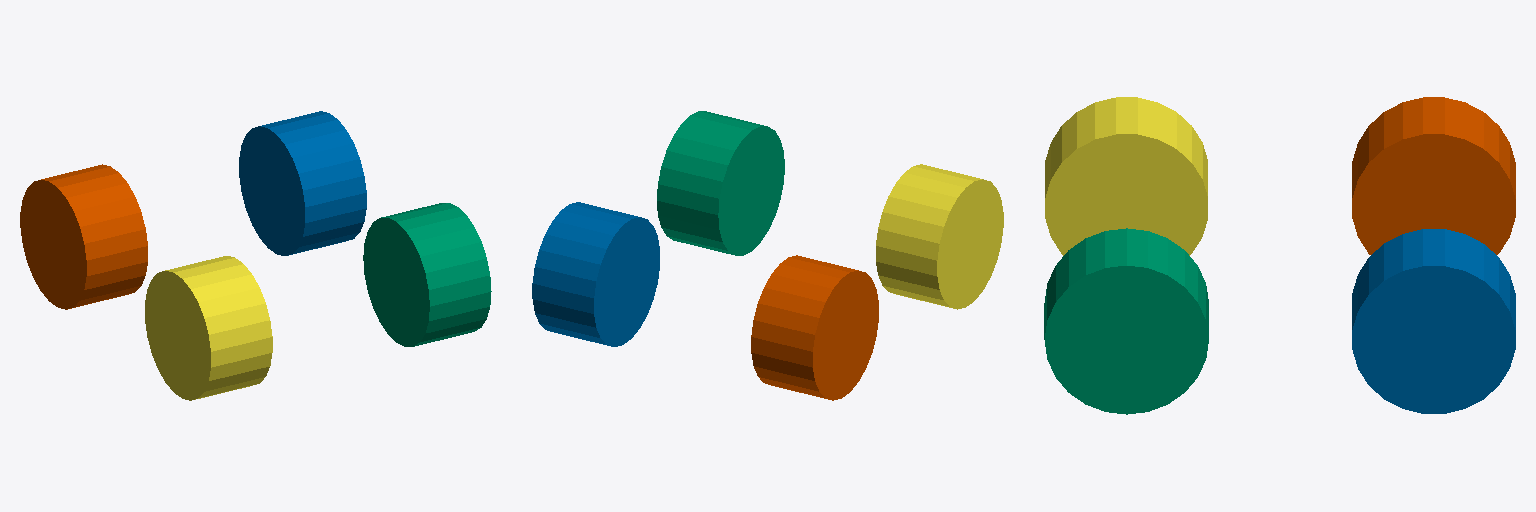
The robot description file, URDF, robot "ante":
<?xml version="1.0" ?>
<!-- =================================================================================== -->
<!-- |    This document was autogenerated by xacro from robots/ante.urdf.xacro         | -->
<!-- |    EDITING THIS FILE BY HAND IS NOT RECOMMENDED                                 | -->
<!-- =================================================================================== -->
<robot name="ante">
  <!-- create base_link -->
  <link name="base_link"/>
  <!-- fix chassis to base_link, given by parent -->
  <joint name="drivebase_base_link" type="fixed">
    <parent link="base_link"/>
    <child link="chassis_link"/>
    <origin rpy="0 0 0" xyz="0 0 0"/>
  </joint>
  <!-- wheel joints -->
  <joint name="front_left_axle" type="continuous">
    <origin rpy="-1.5707964 0. 1.5707964" xyz="0.111 0.042 -0.012"/>
    <parent link="chassis_link"/>
    <child link="front_left_wheel"/>
    <axis xyz="0. 0. 1."/>
  </joint>
  <joint name="front_right_axle" type="continuous">
    <origin rpy="-1.5707964 0. -1.5707964" xyz="-0.111 0.042 -0.012"/>
    <parent link="chassis_link"/>
    <child link="front_right_wheel"/>
    <axis xyz="0. 0. 1."/>
  </joint>
  <joint name="rear_left_axle" type="continuous">
    <origin rpy="-1.5707964 0. 1.5707964" xyz="0.111 0.182 -0.012"/>
    <parent link="chassis_link"/>
    <child link="rear_left_wheel"/>
    <axis xyz="0. 0. 1."/>
  </joint>
  <joint name="rear_right_axle" type="continuous">
    <origin rpy="-1.5707964 0. -1.5707964" xyz="-0.111 0.182 -0.012"/>
    <parent link="chassis_link"/>
    <child link="rear_right_wheel"/>
    <axis xyz="0. 0. 1."/>
  </joint>
  <link name="chassis_link">
    <visual>
      <origin rpy="0. 0. 0." xyz="0. 0. 0."/>
      <geometry>
        <mesh filename="package://ante_description/meshes/decimated_drivebase.obj" scale="1. 1. 1."/>
      </geometry>
    </visual>
  </link>
  <link name="front_left_wheel">
    <visual>
      <origin rpy="1.5707964 1.5707964 0. " xyz="0. -0. 0.06"/>
      <geometry>
        <mesh filename="package://ante_description/meshes/wheel.obj" scale="1. 1. 1."/>
      </geometry>
    </visual>
    <collision>
      <origin rpy="1.5707964 1.5707964 0. " xyz="0. -0. 0.06"/>
      <geometry>
        <mesh filename="package://ante_description/meshes/wheel.obj" scale="1. 1. 1."/>
      </geometry>
    </collision>
  </link>
  <link name="front_right_wheel">
    <visual>
      <origin rpy="-0.3917964 1.5707964 0. " xyz="-0. -0. 0.06"/>
      <geometry>
        <mesh filename="package://ante_description/meshes/wheel.obj" scale="1. 1. 1."/>
      </geometry>
    </visual>
    <collision>
      <origin rpy="-0.3917964 1.5707964 0. " xyz="-0. -0. 0.06"/>
      <geometry>
        <mesh filename="package://ante_description/meshes/wheel.obj" scale="1. 1. 1."/>
      </geometry>
    </collision>
  </link>
  <link name="rear_left_wheel">
    <visual>
      <origin rpy="-0.3917964 -1.5707964 0. " xyz="0. -0. 0.02"/>
      <geometry>
        <mesh filename="package://ante_description/meshes/wheel.obj" scale="1. 1. 1."/>
      </geometry>
    </visual>
    <collision>
      <origin rpy="-0.3917964 -1.5707964 0. " xyz="0. -0. 0.02"/>
      <geometry>
        <mesh filename="package://ante_description/meshes/wheel.obj" scale="1. 1. 1."/>
      </geometry>
    </collision>
  </link>
  <link name="rear_right_wheel">
    <visual>
      <origin rpy="-0.3917964 1.5707964 0. " xyz="-0. -0. 0.06"/>
      <geometry>
        <mesh filename="package://ante_description/meshes/wheel.obj" scale="1. 1. 1."/>
      </geometry>
    </visual>
    <collision>
      <origin rpy="-0.3917964 1.5707964 0. " xyz="-0. -0. 0.06"/>
      <geometry>
        <mesh filename="package://ante_description/meshes/wheel.obj" scale="1. 1. 1."/>
      </geometry>
    </collision>
  </link>
</robot>

--- What the picture shows (computed from the rendered views, not written in the file) ---
Views: 3 orthographic renders of the robot side by side, from view 1: azimuth 30°, elevation 25°; view 2: azimuth 150°, elevation 25°; view 3: azimuth 270°, elevation 25°.
Robot: ante — 6 links, 5 joints (4 continuous, 1 fixed); root link base_link; default pose: all joints at 0.
Links seen in each view (by area): view 1: front_left_wheel, rear_right_wheel, front_right_wheel, rear_left_wheel; view 2: front_left_wheel, rear_right_wheel, front_right_wheel, rear_left_wheel; view 3: front_left_wheel, rear_left_wheel, rear_right_wheel, front_right_wheel.
Boxes of the visible links, box(x1,y1,x2,y2) form: front_left_wheel: box(363, 203, 491, 346); rear_right_wheel: box(20, 164, 147, 309); front_right_wheel: box(145, 256, 272, 400); rear_left_wheel: box(239, 111, 366, 255); front_left_wheel: box(657, 111, 784, 255); rear_right_wheel: box(751, 255, 878, 400); front_right_wheel: box(876, 164, 1003, 309); rear_left_wheel: box(532, 202, 659, 346); front_left_wheel: box(1044, 228, 1208, 414); rear_left_wheel: box(1352, 229, 1515, 413); rear_right_wheel: box(1352, 97, 1515, 254); front_right_wheel: box(1045, 97, 1207, 255).
Size in the robot's own frame: 0.182 by 0.2147 by 0.075 metres.
4 mesh visuals loaded from 2 distinct referenced files (1 OBJ); not drawn: 1 (reference not matched to a file when rendering).
